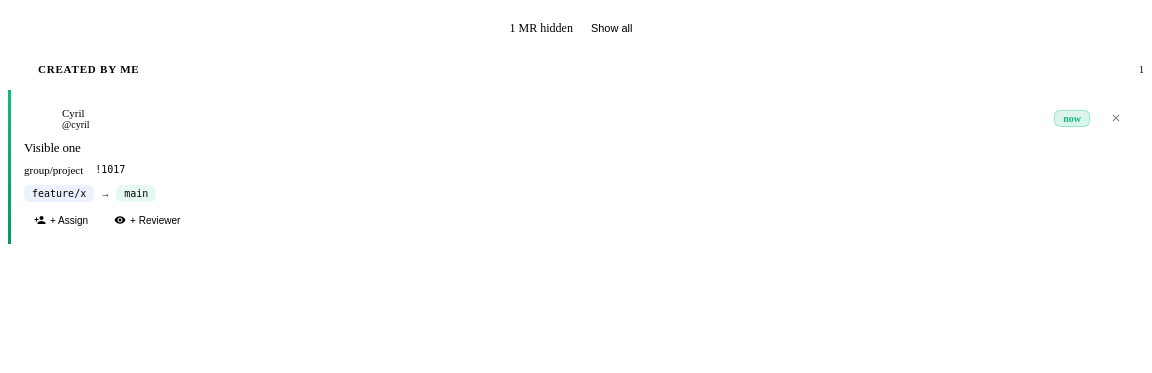
Test: MergeRequestsTab › shows the dismissed-notice with a "Show all" button that calls restoreMRs
Expected: the text "1 MR hidden" is shown, [510,20,573,36]
Expected: the text "Visible one" is shown, [24,140,81,155]
Click the button "Show all" at [612, 28], box [581,18,642,38]
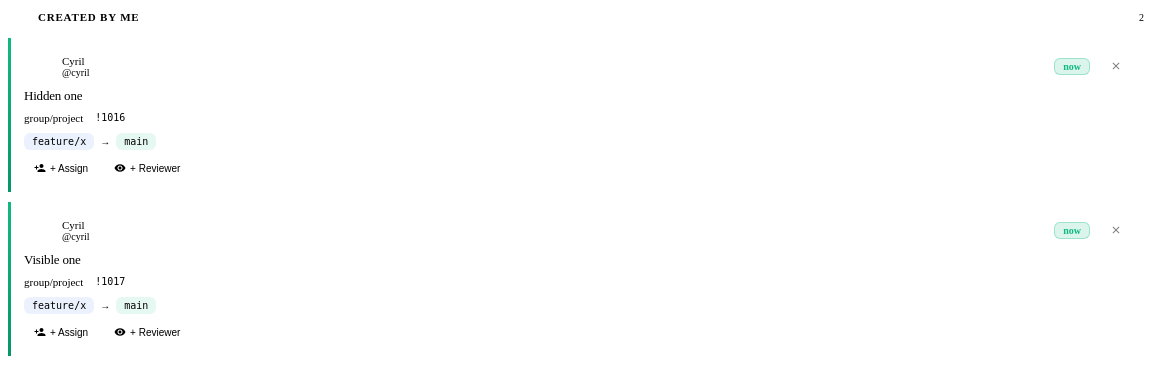
Expected: the text "Hidden one" is shown, [24,88,82,103]
